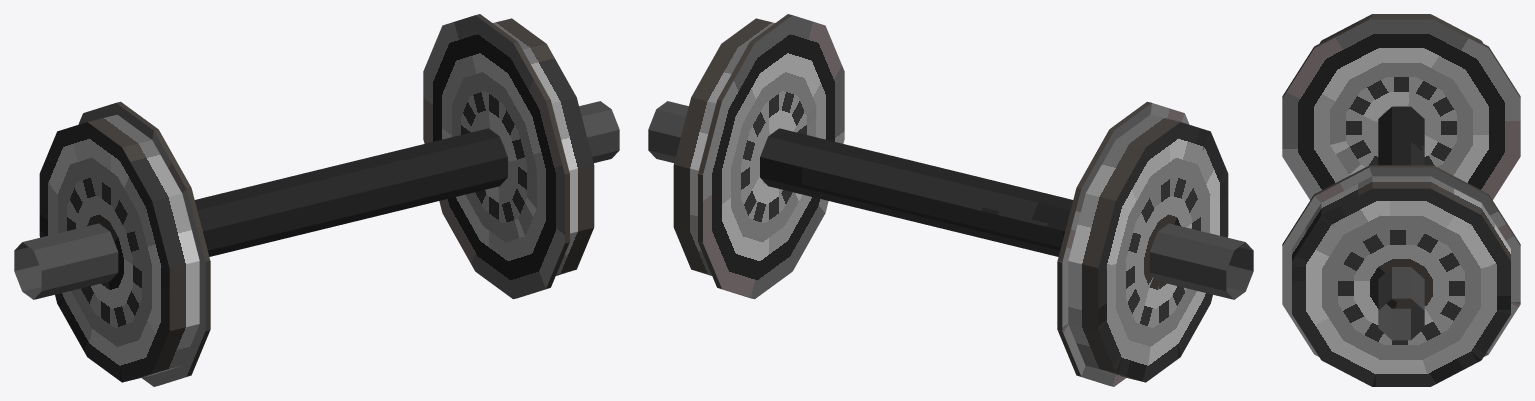
File: DT206_WHEEL.obj
3 views of the same model, side by side, from view 1: azimuth 30°, elevation 25°; view 2: azimuth 150°, elevation 25°; view 3: azimuth 270°, elevation 25° (orthographic). The views are drawn at different scales.
Visible parts, largest first — view 1: cylinder, cylinder_selection; view 2: cylinder, cylinder_selection; view 3: cylinder, cylinder_selection.
Boxes of the visible parts, bbox=[...] form: cylinder: bbox=[14, 18, 619, 382]; cylinder_selection: bbox=[78, 14, 569, 386]; cylinder: bbox=[648, 18, 1253, 382]; cylinder_selection: bbox=[698, 14, 1189, 386]; cylinder: bbox=[1292, 14, 1510, 386]; cylinder_selection: bbox=[1282, 17, 1520, 356].
Size of the model in its own units: 2.21 by 0.9375 by 0.9375.
1 material, 1 textured.
